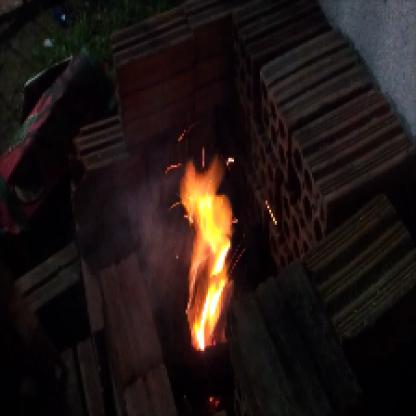Fire: (158, 141, 251, 353)
